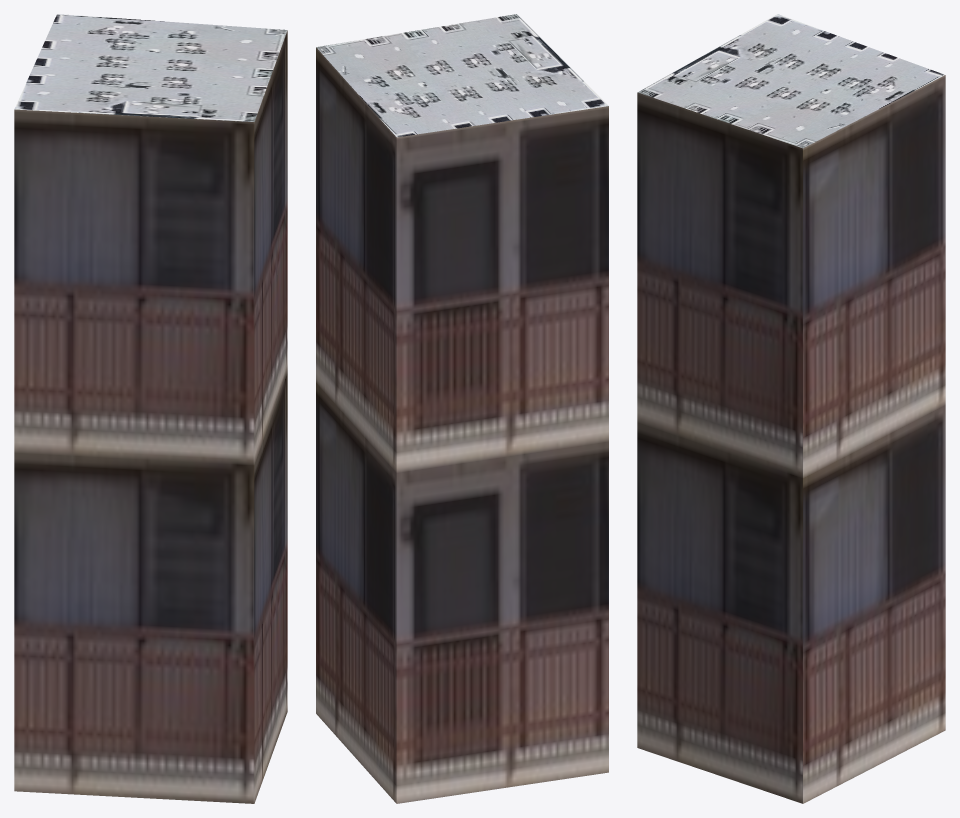
Rendered from ResTex__4287.fbx.
The picture shows the model from 3 angles, left to right: view 1: azimuth 30°, elevation 25°; view 2: azimuth 150°, elevation 25°; view 3: azimuth 270°, elevation 25°; orthographic projection. The views are drawn at different scales.
Parts seen in each view (by area): view 1: CityEngineMaterial_6_m, CityEngineMaterial_2_m; view 2: CityEngineMaterial_6_m, CityEngineMaterial_2_m; view 3: CityEngineMaterial_6_m, CityEngineMaterial_2_m.
Part boxes in pixels (bbox=[...]): CityEngineMaterial_6_m: bbox=[14, 30, 287, 803]; CityEngineMaterial_2_m: bbox=[14, 14, 287, 121]; CityEngineMaterial_6_m: bbox=[316, 47, 608, 803]; CityEngineMaterial_2_m: bbox=[316, 14, 608, 137]; CityEngineMaterial_6_m: bbox=[637, 75, 945, 803]; CityEngineMaterial_2_m: bbox=[638, 14, 944, 148].
Bounding box in the file's own units: 2.64 × 6 × 2.55.
Materials: 2 (2 with a texture image).
